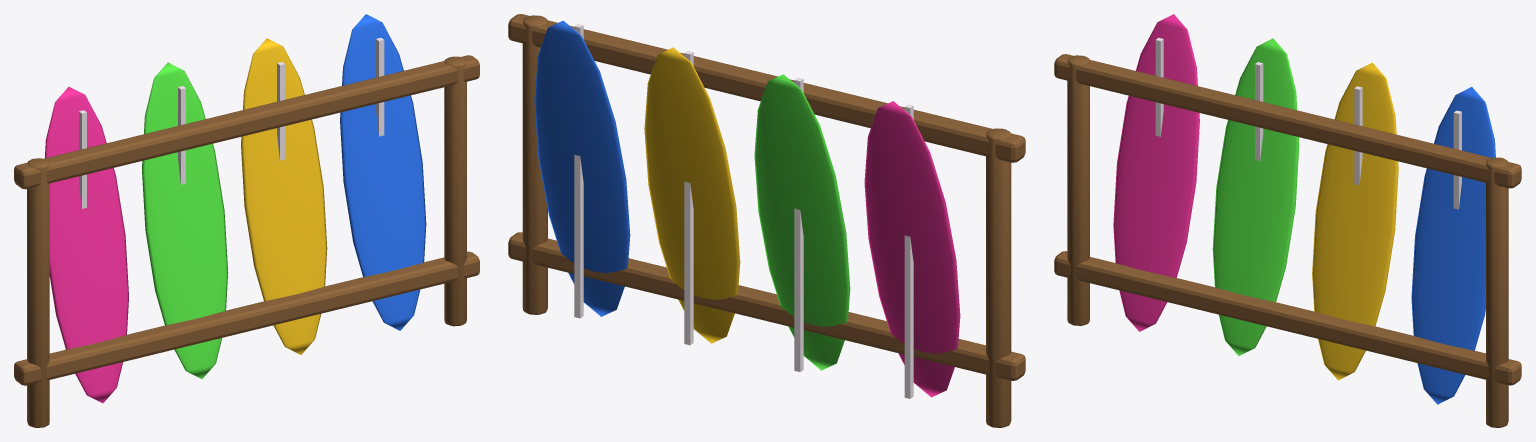
Rendered from selancar.glb.
The picture shows the model from 3 angles, left to right: view 1: azimuth 30°, elevation 25°; view 2: azimuth 150°, elevation 25°; view 3: azimuth 330°, elevation 25°; orthographic projection. The views are drawn at different scales.
Visible parts, largest first — view 1: Sphere.002, Sphere.003, Sphere.001, Sphere, Cube, Cube.001, Cylinder.001, Cylinder, Cube.004, Cube.005, Cube.002, Cube.003; view 2: Sphere, Sphere.002, Sphere.003, Sphere.001, Cube, Cube.001, Cylinder, Cylinder.001, Cube.002, Cube.004, Cube.005, Cube.003; view 3: Sphere.002, Sphere, Sphere.001, Sphere.003, Cube, Cube.001, Cylinder.001, Cylinder, Cube.005, Cube.002, Cube.004, Cube.003.
Boxes of the visible parts, bbox=[...] form: Sphere.002: bbox=[241, 38, 327, 354]; Sphere.003: bbox=[340, 14, 426, 330]; Sphere.001: bbox=[142, 62, 228, 378]; Sphere: bbox=[45, 87, 128, 403]; Cube: bbox=[14, 55, 479, 189]; Cube.001: bbox=[14, 251, 479, 385]; Cylinder.001: bbox=[444, 56, 466, 326]; Cylinder: bbox=[27, 158, 49, 427]; Cube.004: bbox=[277, 62, 285, 160]; Cube.005: bbox=[376, 38, 384, 136]; Cube.002: bbox=[79, 110, 86, 208]; Cube.003: bbox=[178, 86, 185, 184]; Sphere: bbox=[864, 101, 960, 397]; Sphere.002: bbox=[644, 47, 740, 343]; Sphere.003: bbox=[534, 20, 630, 316]; Sphere.001: bbox=[754, 74, 850, 370]; Cube: bbox=[508, 14, 1025, 162]; Cube.001: bbox=[508, 232, 1025, 380]; Cylinder: bbox=[986, 128, 1011, 427]; Cylinder.001: bbox=[522, 15, 547, 314]; Cube.002: bbox=[904, 104, 913, 398]; Cube.004: bbox=[684, 50, 693, 345]; Cube.005: bbox=[574, 24, 583, 318]; Cube.003: bbox=[794, 77, 803, 371]; Sphere.002: bbox=[1312, 62, 1398, 380]; Sphere: bbox=[1113, 14, 1199, 331]; Sphere.001: bbox=[1212, 38, 1299, 355]; Sphere.003: bbox=[1411, 87, 1495, 404]; Cube: bbox=[1054, 54, 1521, 188]; Cube.001: bbox=[1054, 251, 1521, 385]; Cylinder.001: bbox=[1486, 157, 1508, 427]; Cylinder: bbox=[1067, 55, 1089, 325]; Cube.005: bbox=[1453, 110, 1461, 209]; Cube.002: bbox=[1155, 37, 1163, 136]; Cube.004: bbox=[1354, 86, 1362, 185]; Cube.003: bbox=[1255, 62, 1263, 160].
Bounding box in the file's own units: 4.4 × 2.74 × 0.6299.
